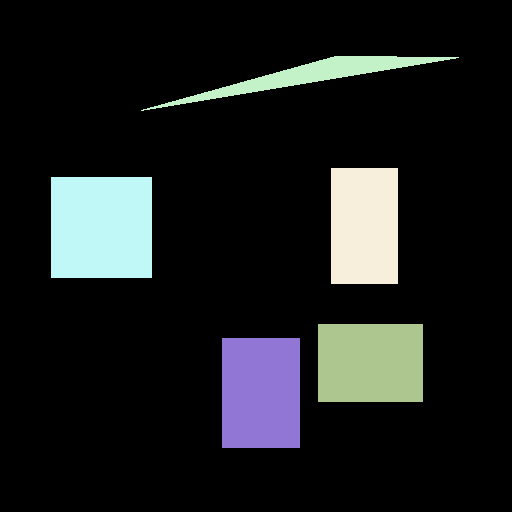rectangle: (222, 338, 299, 447), (318, 324, 422, 401), (331, 168, 397, 283)
square: (51, 177, 151, 277)
triangle: (141, 56, 458, 110)
